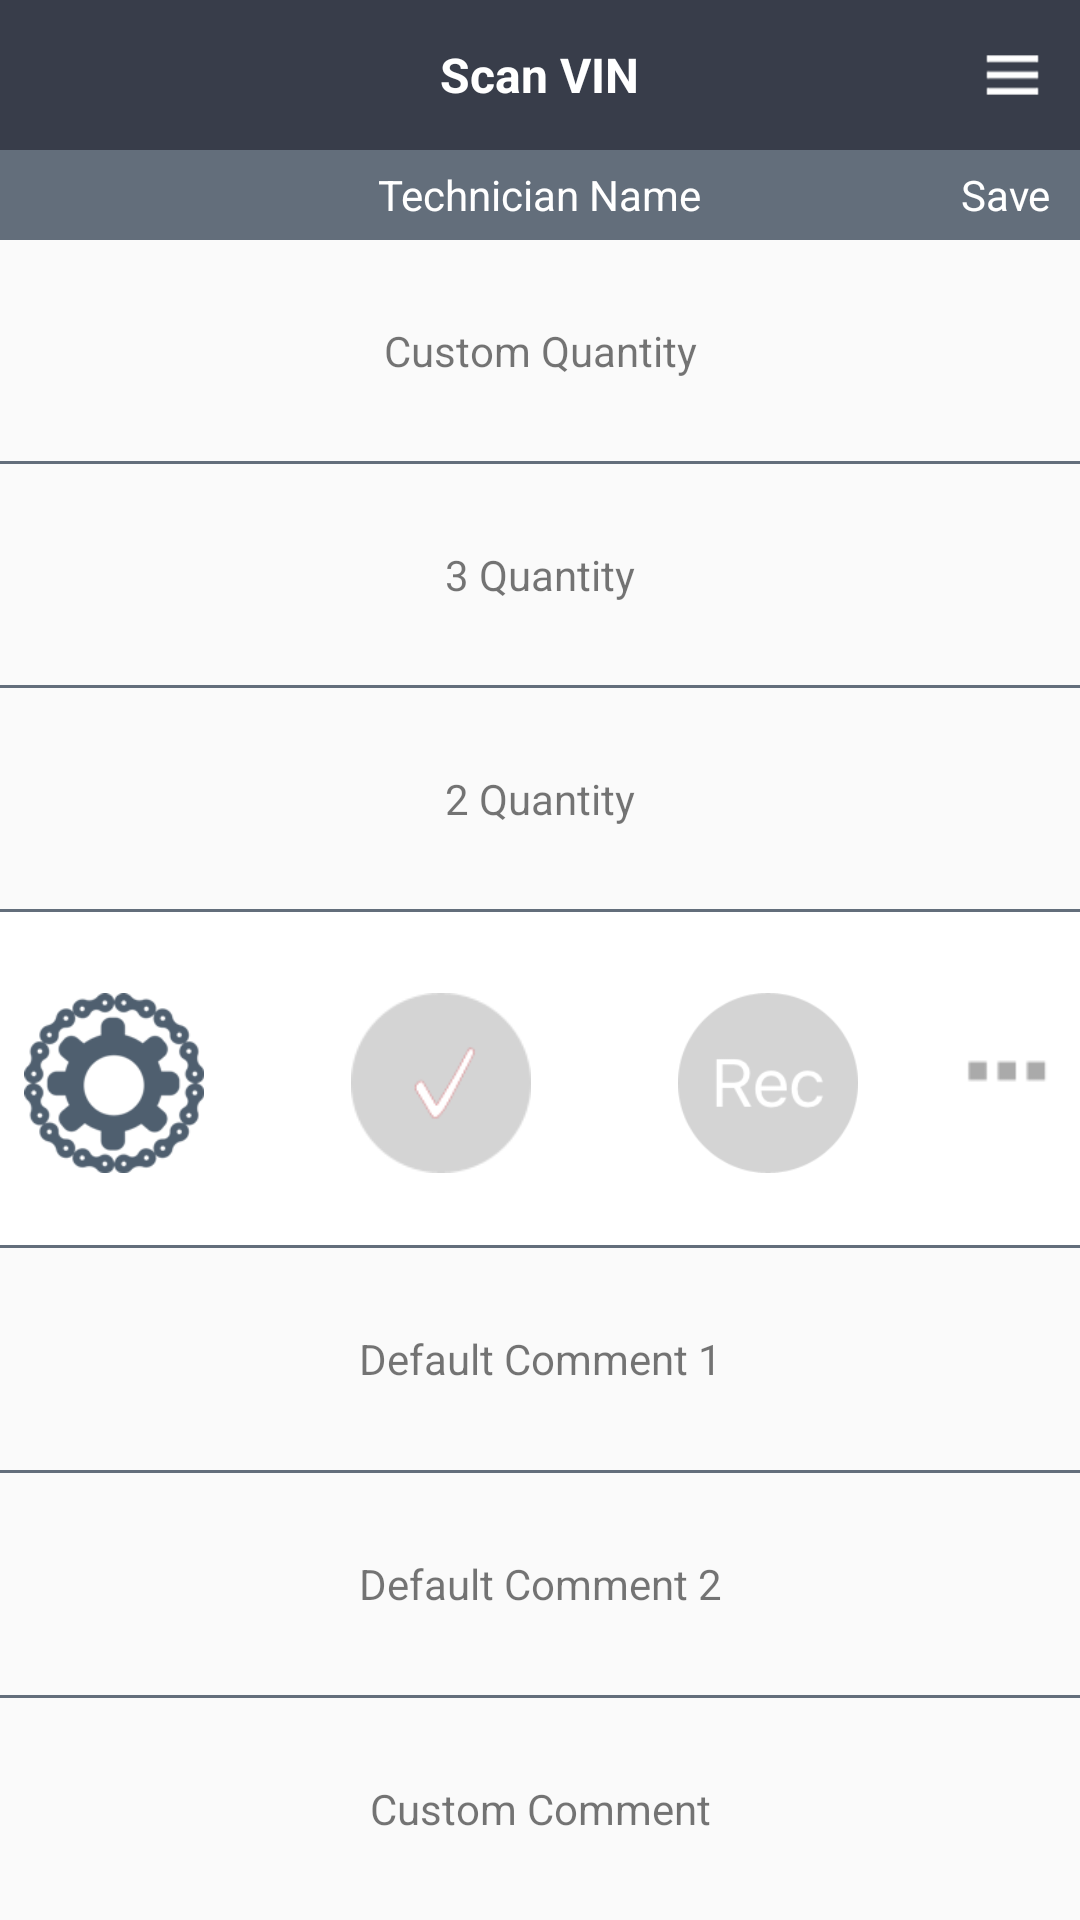

Screen size 1080px x 1920px. Icon name, then its box in pixels as bbox(x1, y1, x2, y2):
checked: bbox(351, 993, 531, 1173)
dots: bbox(968, 1061, 1045, 1081)
menu: bbox(986, 55, 1039, 95)
